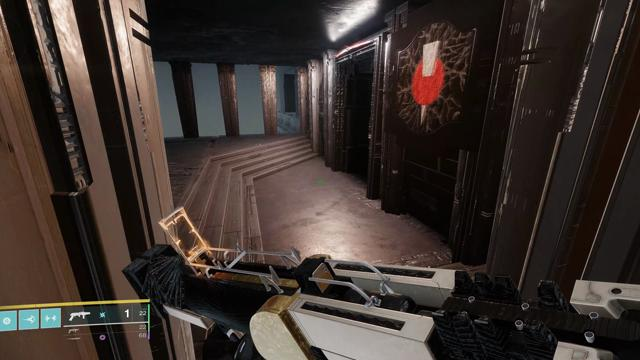kill: (395, 21, 476, 137)
